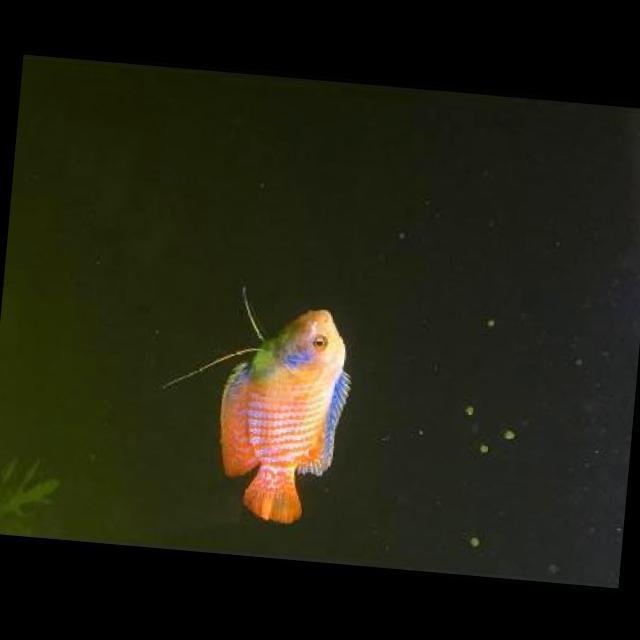Gourami: (205, 302, 368, 534)
